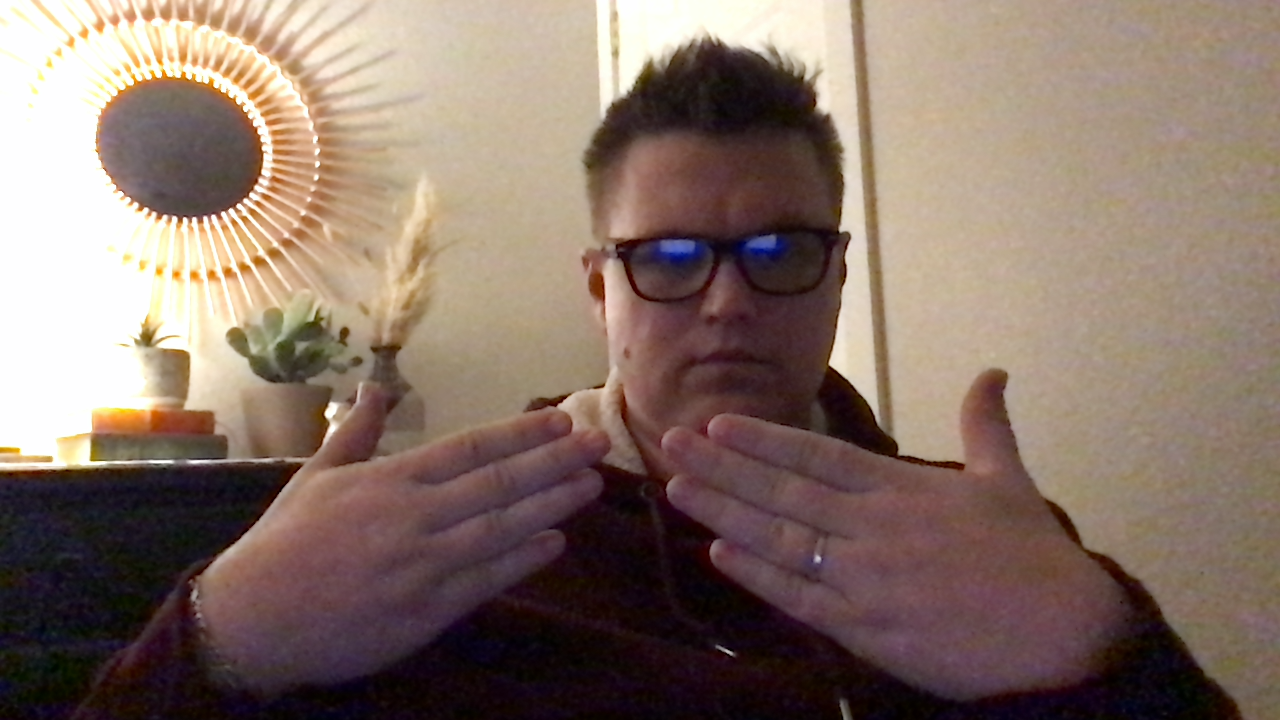thankyou: (176, 363, 1149, 720)
